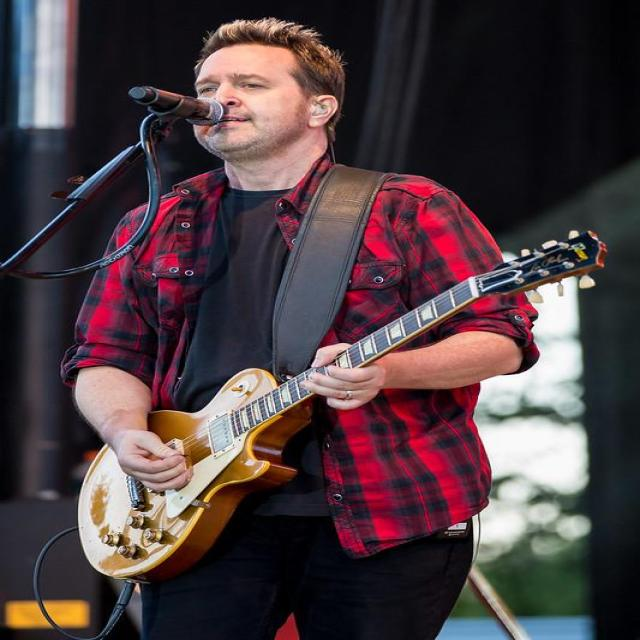guitar: (79, 369, 314, 580)
